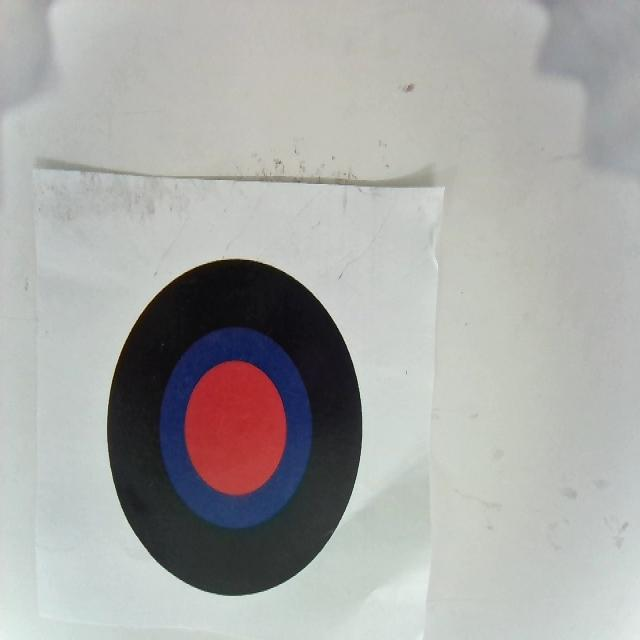cogn: (106, 257, 364, 598)
